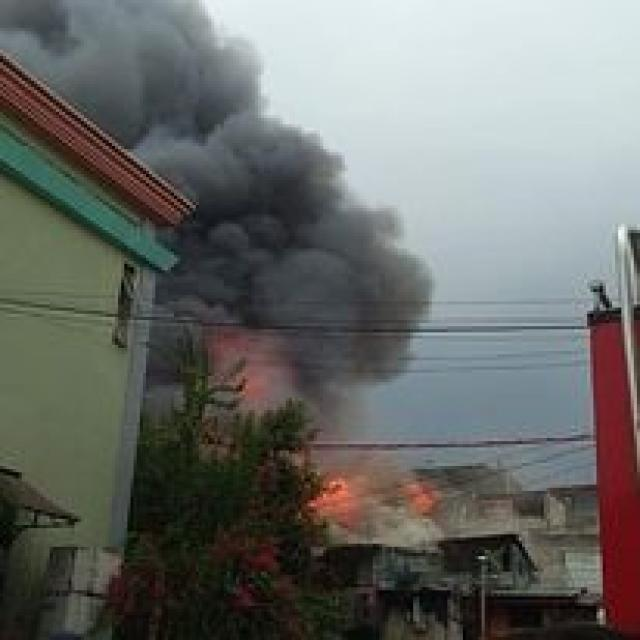Fire: (208, 333, 282, 428), (300, 456, 368, 520), (398, 474, 448, 520)
Smoke: (6, 1, 432, 444)
